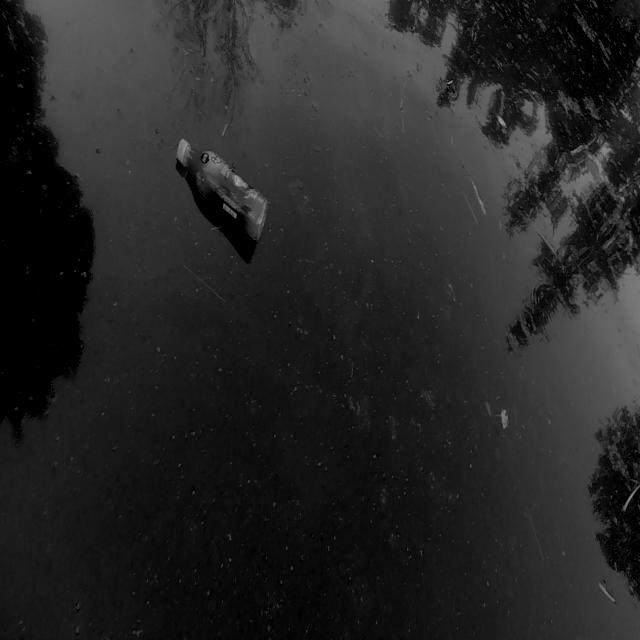bottle: (163, 115, 281, 263)
